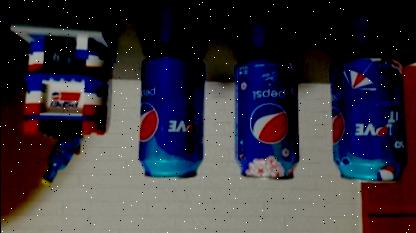Can: (327, 50, 408, 182), (230, 54, 301, 182), (140, 53, 204, 179)
